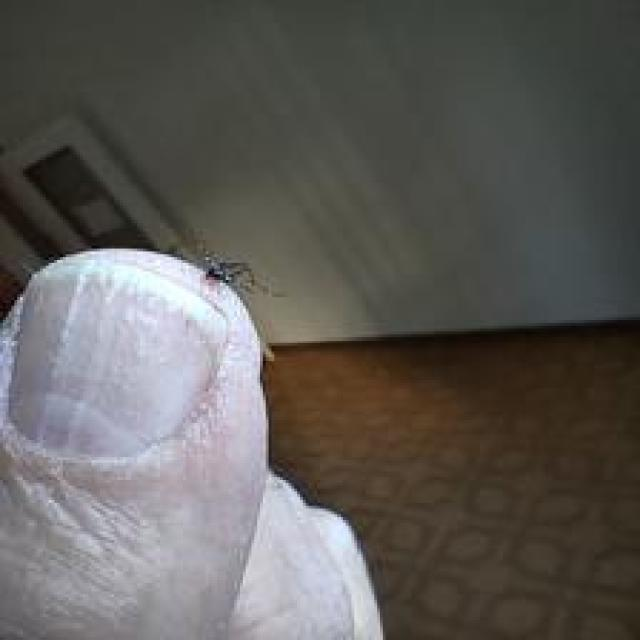Aedes albopictus: (0, 243, 394, 640)
